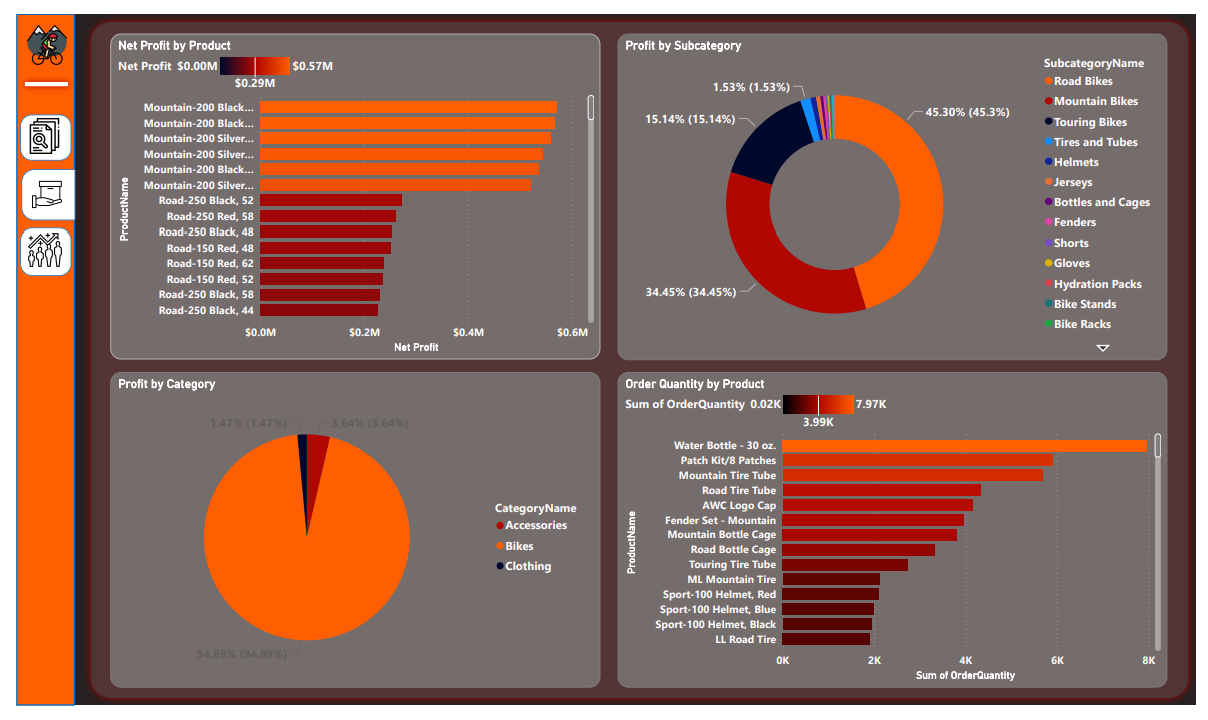

Layout of this report page (visuals, bound fields, positions):
{"tool":"powerbi","page":{"name":"Products","canvas":[1640,960],"ordinal":1},"visuals":[{"type":"shape","box":[91.7,0,1548.5,960],"z":0},{"type":"shape","box":[5.3,140.1,70.8,64.3],"z":0,"group":"g1"},{"type":"shape","box":[5.8,215.8,75,71.4],"z":0,"group":"g3"},{"type":"shape","box":[5.3,296,70.8,65.9],"z":0,"group":"g2"},{"type":"donutChart","title":"Profit by Subcategory ","fields":{"Category":["AdventureWorks_Product_Subcategories.SubcategoryName"],"Y":["Sum(AdventureWorks_Total_Sales.OrderCost)"]},"box":[836.2,80.4,599.8,400.4],"z":1000},{"type":"image","box":[8.8,140.9,61.1,59.5],"z":1000,"group":"g1"},{"type":"image","box":[11.7,225.3,57.9,51.5],"z":1000,"group":"g3"},{"type":"image","box":[10.1,296,59.5,61.1],"z":1000,"group":"g2"},{"type":"clusteredBarChart","title":"Net Profit by Product","fields":{"Category":["AdventureWorks_Products.ProductName","AdventureWorks_Product_Categories.CategoryName"],"Y":["_MEASURES.Product Return Rate"]},"box":[144.7,498.5,656.1,439],"z":2000},{"type":"clusteredBarChart","title":"Order Quantity by Product ","fields":{"Category":["AdventureWorks_Products.ProductName"],"Y":["_MEASURES.Total Quantity"]},"box":[836.2,496.9,765.4,439],"z":3000},{"type":"shape","box":[0,0,80.4,960],"z":4000},{"type":"group","id":"g1","title":"Group 1","box":[5.3,140.1,70.8,64.3],"z":5000},{"type":"shape","box":[3.2,75.6,75.6,41.8],"z":6000},{"type":"image","box":[6.4,11.3,70.8,64.3],"z":7000},{"type":"group","id":"g2","title":"Group 2","box":[5.3,296,70.8,65.9],"z":8000},{"type":"group","id":"g3","title":"Group 3","box":[5.8,215.8,75,71.4],"z":9000},{"type":"pieChart","title":"Profit by Category","fields":{"Y":["Divide(Sum(AdventureWorks_Total_Sales.OrderCost), ScopedEval(Sum(AdventureWorks_Total_Sales.OrderCost), []))"],"Series":["AdventureWorks_Product_Categories.CategoryName"]},"box":[144.7,75.6,656.1,405.2],"z":10000},{"type":"textbox","box":[139.9,4.8,410.1,75.6],"z":11000},{"type":"slicer","fields":{"Values":["AdventureWorks_Calendar.Date.Variation.Date Hierarchy.Year"]},"box":[1452.1,90.1,165.6,114.2],"z":12000},{"type":"slicer","fields":{"Values":["AdventureWorks_Product_Categories.CategoryName"]},"box":[1452.1,225.1,165.6,170.5],"z":13000}]}

Visuals, with their boxes on the page's 1640x960 design canvas (x1, y1, x2, y2). These are canvas units, not pixel positions in the 1208x720 screenshot, which may show the page scaled, cropped or inside an application window:
shape: bbox(92, 0, 1640, 960)
shape: bbox(5, 140, 76, 204)
shape: bbox(6, 216, 81, 287)
shape: bbox(5, 296, 76, 362)
"Profit by Subcategory " donutChart: bbox(836, 80, 1436, 481)
image: bbox(9, 141, 70, 200)
image: bbox(12, 225, 70, 277)
image: bbox(10, 296, 70, 357)
"Net Profit by Product" clusteredBarChart: bbox(145, 498, 801, 938)
"Order Quantity by Product " clusteredBarChart: bbox(836, 497, 1602, 936)
shape: bbox(0, 0, 80, 960)
"Group 1" group: bbox(5, 140, 76, 204)
shape: bbox(3, 76, 79, 117)
image: bbox(6, 11, 77, 76)
"Group 2" group: bbox(5, 296, 76, 362)
"Group 3" group: bbox(6, 216, 81, 287)
"Profit by Category" pieChart: bbox(145, 76, 801, 481)
textbox: bbox(140, 5, 550, 80)
slicer - AdventureWorks_Calendar.Date.Variation.Date Hierarchy.Year: bbox(1452, 90, 1618, 204)
slicer - AdventureWorks_Product_Categories.CategoryName: bbox(1452, 225, 1618, 396)
